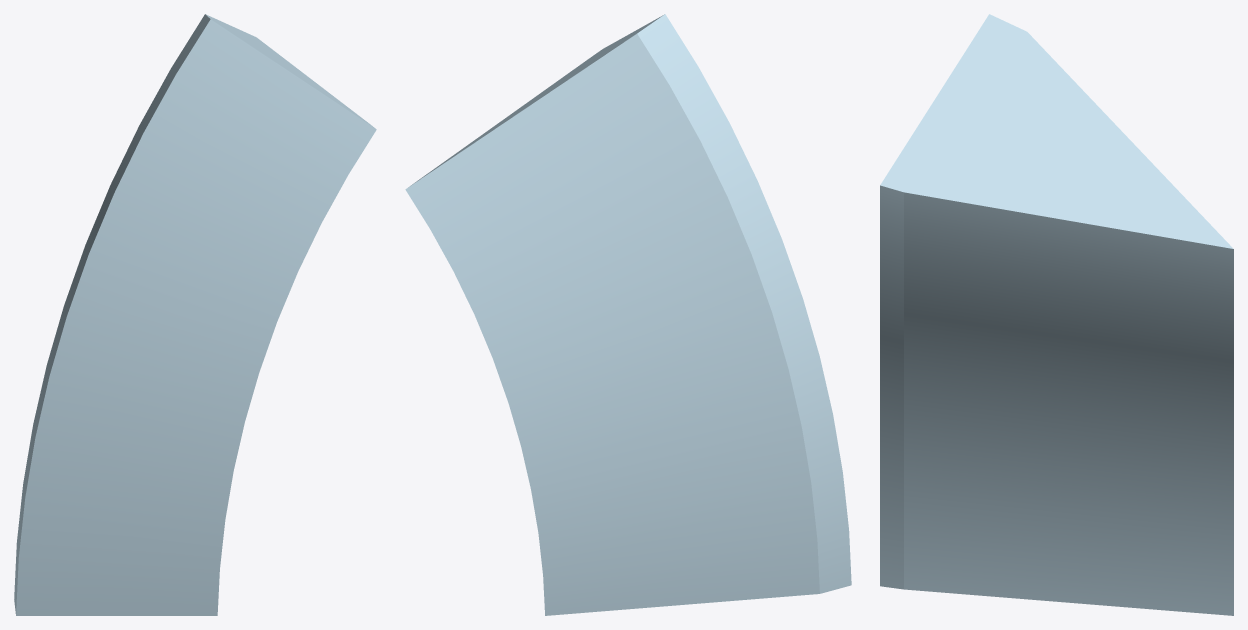
File: Sub_3_Cell_1_1.gltf
3 renders of one model, left to right at view 1: azimuth 30°, elevation 25°; view 2: azimuth 150°, elevation 25°; view 3: azimuth 270°, elevation 25°, orthographic. The views are drawn at different scales.
Parts seen in each view (by area): view 1: Sub_3_Cell_1_1; view 2: Sub_3_Cell_1_1; view 3: Sub_3_Cell_1_1.
Part boxes in pixels (<box>): Sub_3_Cell_1_1: <box>14,14,376,615</box>; Sub_3_Cell_1_1: <box>405,14,851,615</box>; Sub_3_Cell_1_1: <box>880,14,1233,615</box>.
Size of the model in its own units: 0.074 by 0.1099 by 0.0592.
